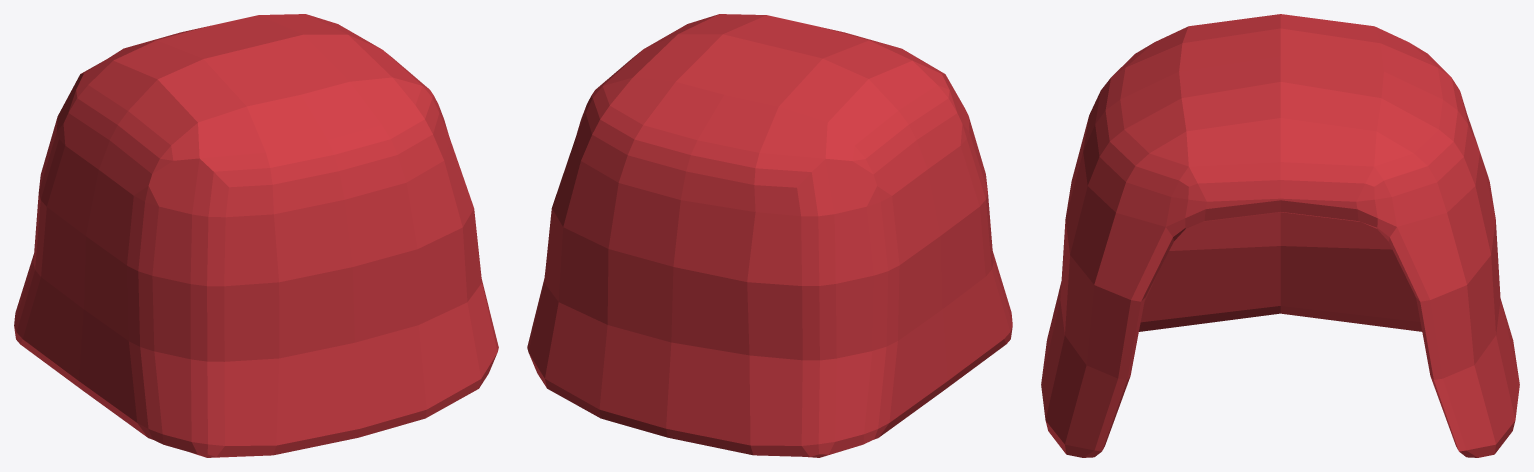
File: red helmet.fbx
The picture shows the model from 3 angles, left to right: view 1: azimuth 30°, elevation 25°; view 2: azimuth 150°, elevation 25°; view 3: azimuth 270°, elevation 25°; orthographic projection. The views are drawn at different scales.
Visible parts, largest first — view 1: Cube; view 2: Cube; view 3: Cube.
Boxes of the visible parts, x1,y1,x2,y2 form: Cube: (14, 14, 498, 457); Cube: (527, 14, 1012, 457); Cube: (1041, 14, 1519, 457).
Size of the model in its own units: 99.25 by 87.67 by 111.
